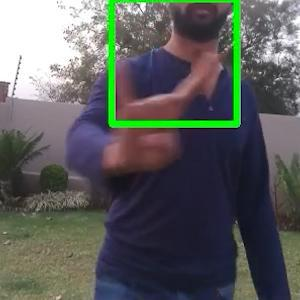takeoff-hand: (92, 38, 231, 179)
